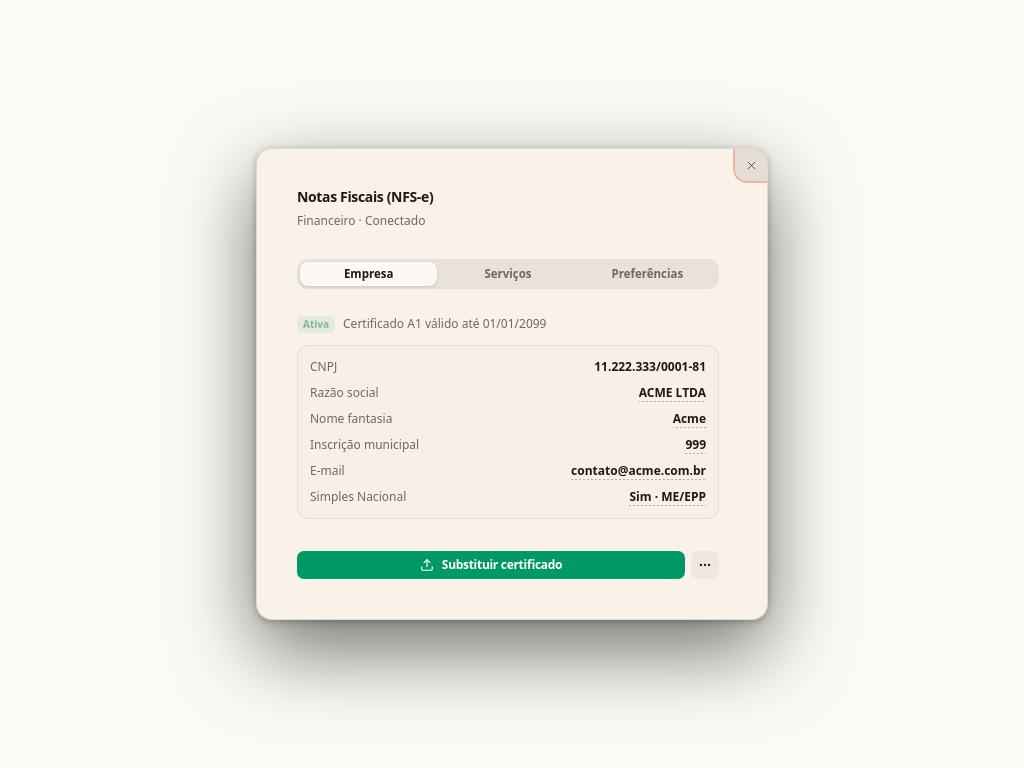
Scenario: janela Notas Fiscais (NFS-e) › Serviços vazio: faixa de aviso, sugestão pelo CNAE e 'Usar sugestão' cria o padrão
Later steps or results of the test are not shown.
Expected: the text "Financeiro · Conectado" is shown, left=297, top=212, right=425, bottom=229
Click the button "Serviços": (508, 274) left=439, top=262, right=577, bottom=286
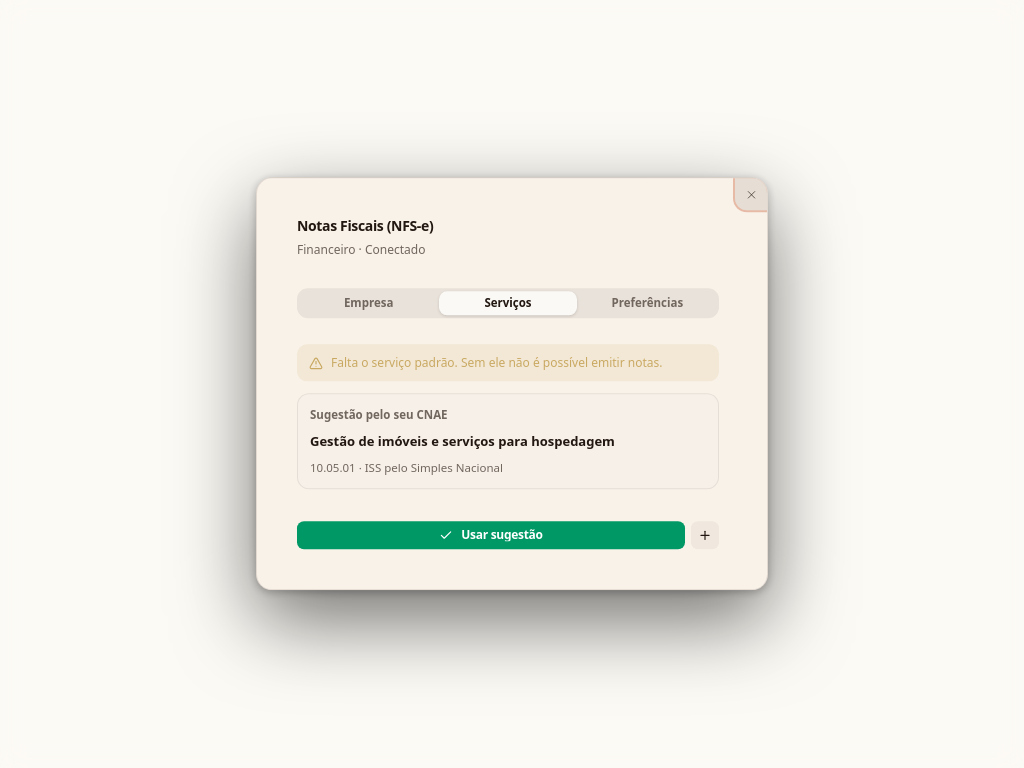
Expected: the text "Falta o serviço padrão. Sem ele não é possível emitir notas." is shown, left=331, top=354, right=662, bottom=372
Expected: the text "Sugestão pelo seu CNAE" is shown, left=310, top=408, right=448, bottom=423
Expected: the text "10.05.01 · ISS pelo Simples Nacional" is shown, left=310, top=460, right=503, bottom=475
